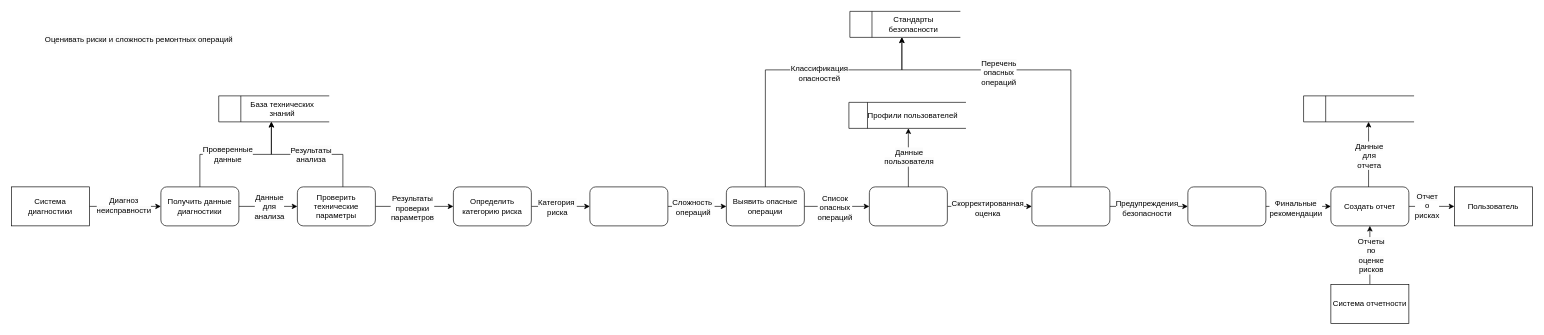
Some shapes in this 1544 by 335 pixel diagram are drawn without their labels. Each missing label, with the box of its shape:
Оценить сложность операций: (589, 186, 668, 226)
Подготовить рекомендации: (1187, 186, 1266, 226)
Сформировать предупреждения: (1031, 186, 1110, 226)
Учесть опыт пользователя: (869, 186, 947, 226)
Шаблоны отчетов: (1327, 99, 1407, 118)
